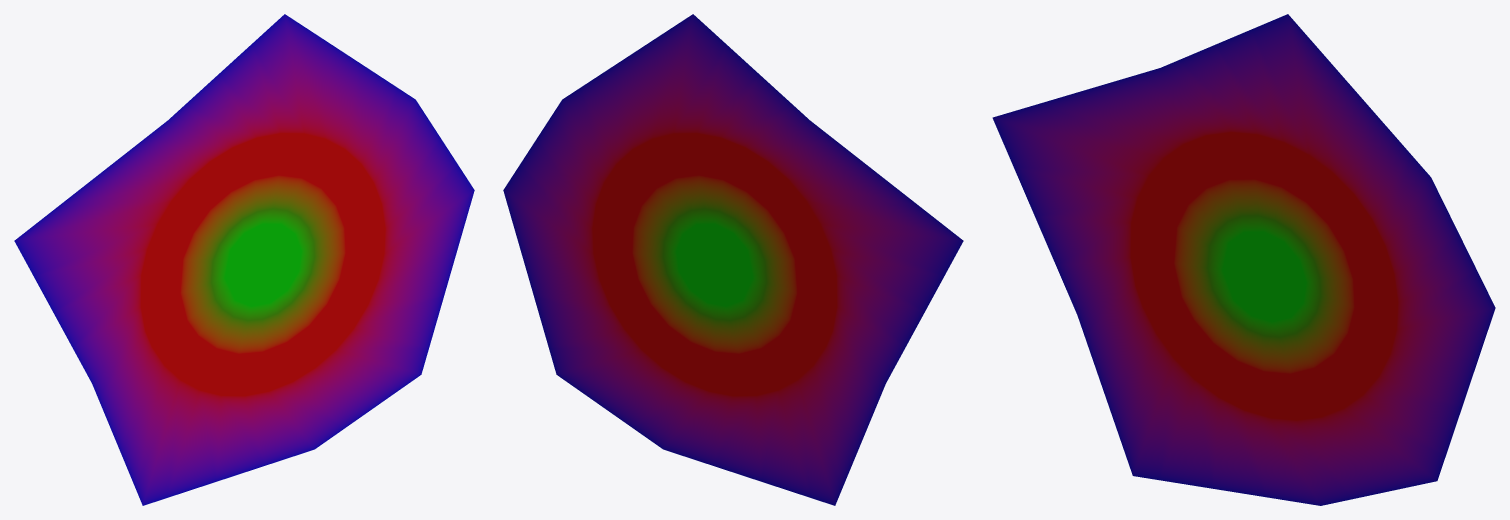
Rendered from SM_VFX_Impact_Glow_01.fbx.
3 views of the same model, side by side, from view 1: azimuth 30°, elevation 25°; view 2: azimuth 150°, elevation 25°; view 3: azimuth 330°, elevation 25° (orthographic). The views are drawn at different scales.
Parts seen in each view (by area): view 1: MSH_VFX_Impact_Glow_01; view 2: MSH_VFX_Impact_Glow_01; view 3: MSH_VFX_Impact_Glow_01.
Part boxes in pixels (x1=…): MSH_VFX_Impact_Glow_01: x1=14, y1=14, x2=474, y2=505; MSH_VFX_Impact_Glow_01: x1=503, y1=14, x2=963, y2=505; MSH_VFX_Impact_Glow_01: x1=992, y1=14, x2=1495, y2=505.
Bounding box in the file's own units: 100 × 94.92 × 0.
